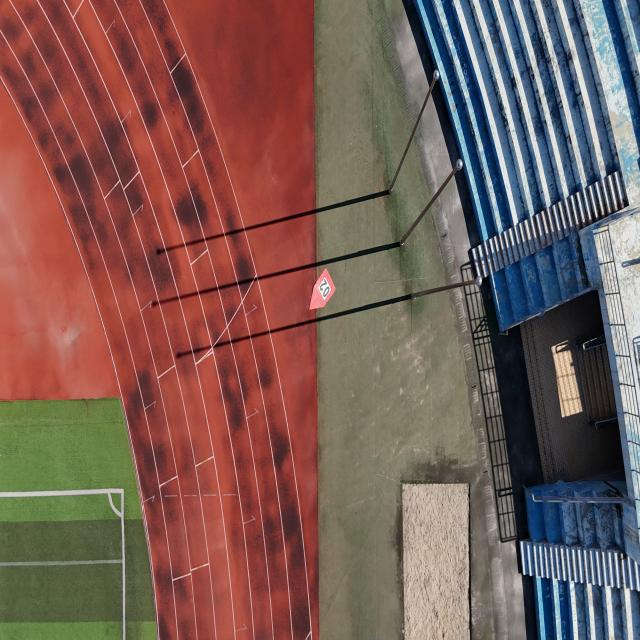board: (309, 267, 337, 311)
